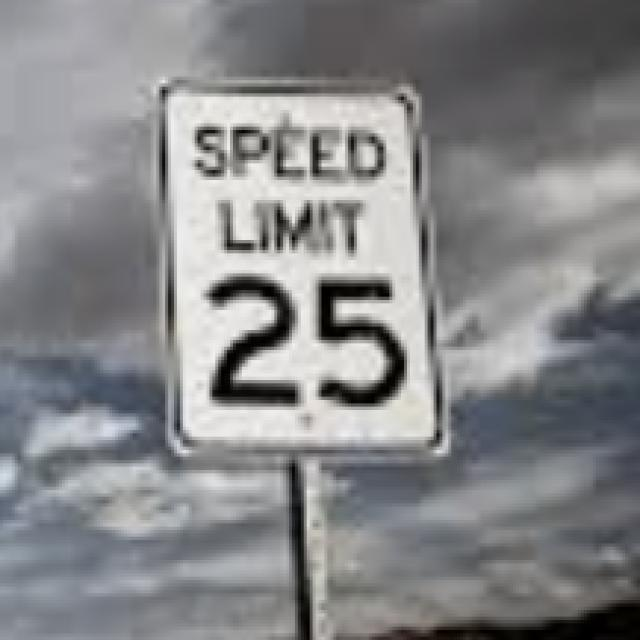speedLimit25: (158, 83, 441, 455)
